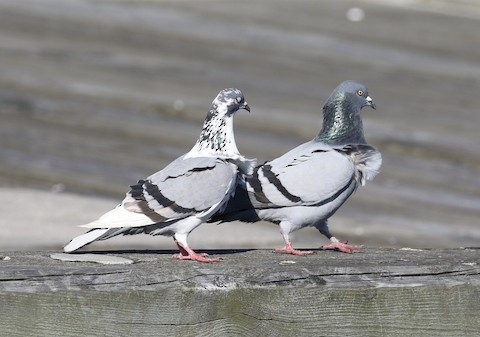pigeon: (56, 81, 259, 267), (187, 78, 387, 262)
